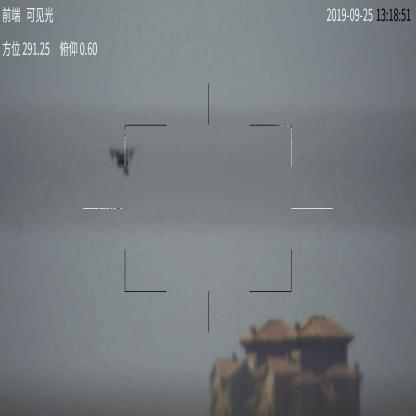uav: (110, 145, 134, 176)
